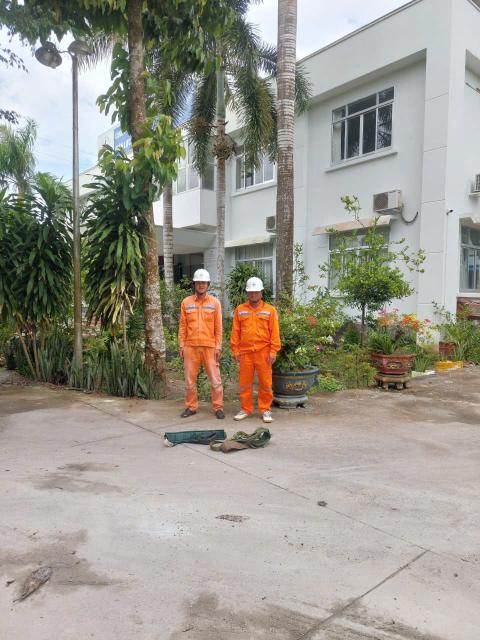helmet: (243, 275, 267, 293), (191, 268, 212, 283)
shoes: (254, 410, 279, 425), (180, 403, 197, 422), (233, 405, 252, 421), (215, 406, 228, 422)
